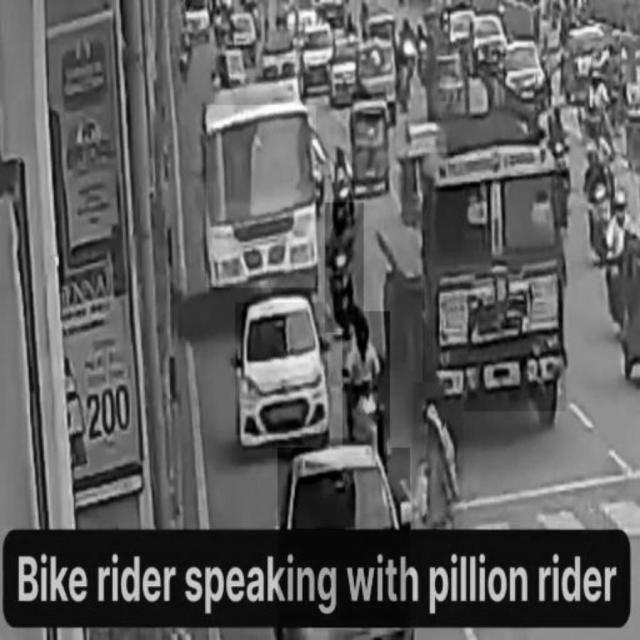person: (413, 382, 464, 530)
vehicle: (422, 153, 566, 411), (277, 448, 409, 640), (206, 105, 316, 289), (235, 303, 327, 435), (343, 312, 390, 456), (325, 203, 363, 333)
